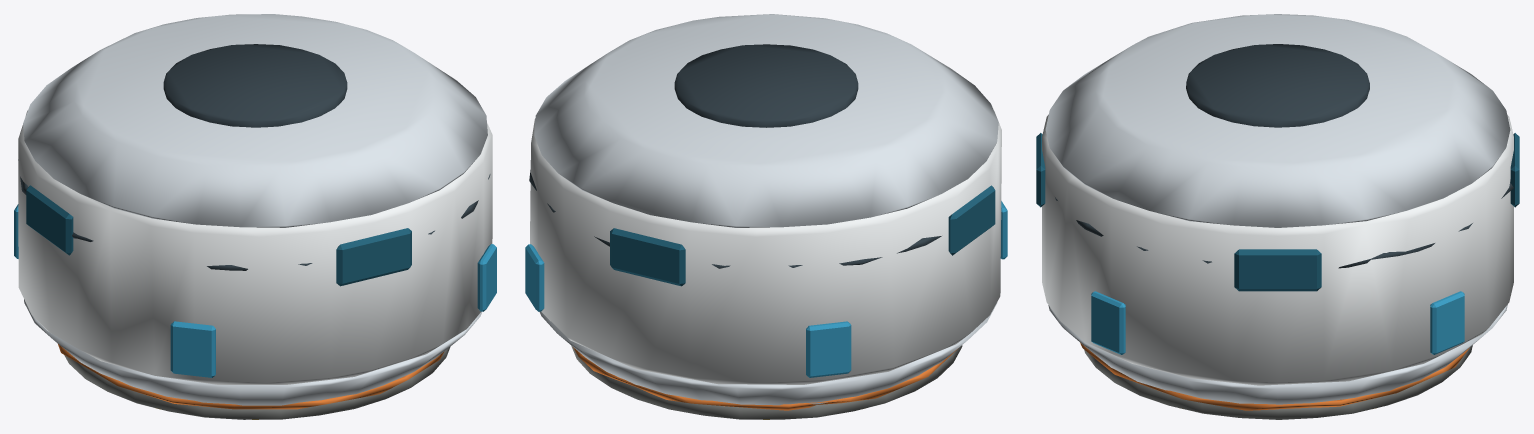
The model's file is perilune-tandem-cab.glb.
3 views of the same model, side by side, from view 1: azimuth 30°, elevation 25°; view 2: azimuth 150°, elevation 25°; view 3: azimuth 270°, elevation 25° (orthographic).
Parts seen in each view (by area): view 1: SM_Pod_Tandem_Cabin, SM_Pod_Tandem_TopShoulder, SM_Pod_Tandem_TopHatch, SM_Pod_Tandem_BaseShoulder, SM_Pod_Tandem_Heatshield, SM_Pod_Tandem_Window_01, SM_Pod_Tandem_Service_04, SM_Pod_Tandem_BaseAccent, SM_Pod_Tandem_Window_04, SM_Pod_Tandem_Service_01, SM_Pod_Tandem_WindowBand; view 2: SM_Pod_Tandem_Cabin, SM_Pod_Tandem_TopShoulder, SM_Pod_Tandem_TopHatch, SM_Pod_Tandem_BaseShoulder, SM_Pod_Tandem_Heatshield, SM_Pod_Tandem_Window_03, SM_Pod_Tandem_Service_03, SM_Pod_Tandem_Window_04, SM_Pod_Tandem_BaseAccent, SM_Pod_Tandem_Service_02, SM_Pod_Tandem_WindowBand; view 3: SM_Pod_Tandem_Cabin, SM_Pod_Tandem_TopShoulder, SM_Pod_Tandem_TopHatch, SM_Pod_Tandem_BaseShoulder, SM_Pod_Tandem_Heatshield, SM_Pod_Tandem_Window_02, SM_Pod_Tandem_BaseAccent, SM_Pod_Tandem_Service_01, SM_Pod_Tandem_Service_02, SM_Pod_Tandem_WindowBand, SM_Pod_Tandem_Window_01, SM_Pod_Tandem_Window_03.
Part boxes in pixels (left/top/right/bottom): SM_Pod_Tandem_Cabin: left=18, top=110, right=492, bottom=384; SM_Pod_Tandem_TopShoulder: left=23, top=14, right=487, bottom=227; SM_Pod_Tandem_TopHatch: left=163, top=44, right=347, bottom=127; SM_Pod_Tandem_BaseShoulder: left=24, top=299, right=481, bottom=405; SM_Pod_Tandem_Heatshield: left=64, top=347, right=450, bottom=419; SM_Pod_Tandem_Window_01: left=336, top=228, right=411, bottom=286; SM_Pod_Tandem_Service_04: left=170, top=321, right=215, bottom=377; SM_Pod_Tandem_BaseAccent: left=58, top=344, right=444, bottom=409; SM_Pod_Tandem_Window_04: left=26, top=185, right=73, bottom=255; SM_Pod_Tandem_Service_01: left=477, top=244, right=496, bottom=311; SM_Pod_Tandem_WindowBand: left=20, top=174, right=490, bottom=270; SM_Pod_Tandem_Cabin: left=530, top=111, right=1001, bottom=384; SM_Pod_Tandem_TopShoulder: left=534, top=14, right=998, bottom=227; SM_Pod_Tandem_TopHatch: left=674, top=44, right=858, bottom=127; SM_Pod_Tandem_BaseShoulder: left=539, top=302, right=997, bottom=405; SM_Pod_Tandem_Heatshield: left=571, top=345, right=962, bottom=419; SM_Pod_Tandem_Window_03: left=610, top=228, right=685, bottom=286; SM_Pod_Tandem_Service_03: left=806, top=321, right=851, bottom=377; SM_Pod_Tandem_Window_04: left=948, top=185, right=995, bottom=255; SM_Pod_Tandem_BaseAccent: left=573, top=347, right=958, bottom=410; SM_Pod_Tandem_Service_02: left=525, top=244, right=544, bottom=311; SM_Pod_Tandem_WindowBand: left=529, top=170, right=941, bottom=268; SM_Pod_Tandem_Cabin: left=1042, top=114, right=1513, bottom=385; SM_Pod_Tandem_TopShoulder: left=1045, top=14, right=1510, bottom=227; SM_Pod_Tandem_TopHatch: left=1186, top=44, right=1369, bottom=127; SM_Pod_Tandem_BaseShoulder: left=1048, top=304, right=1507, bottom=404; SM_Pod_Tandem_Heatshield: left=1084, top=345, right=1472, bottom=419; SM_Pod_Tandem_Window_02: left=1234, top=249, right=1321, bottom=291; SM_Pod_Tandem_BaseAccent: left=1080, top=342, right=1469, bottom=410; SM_Pod_Tandem_Service_01: left=1091, top=291, right=1125, bottom=354; SM_Pod_Tandem_Service_02: left=1430, top=291, right=1464, bottom=354; SM_Pod_Tandem_WindowBand: left=1055, top=179, right=1513, bottom=268; SM_Pod_Tandem_Window_01: left=1036, top=133, right=1045, bottom=207; SM_Pod_Tandem_Window_03: left=1510, top=133, right=1519, bottom=207.
Bounding box in the file's own units: 1.89 × 1.1 × 1.89.
